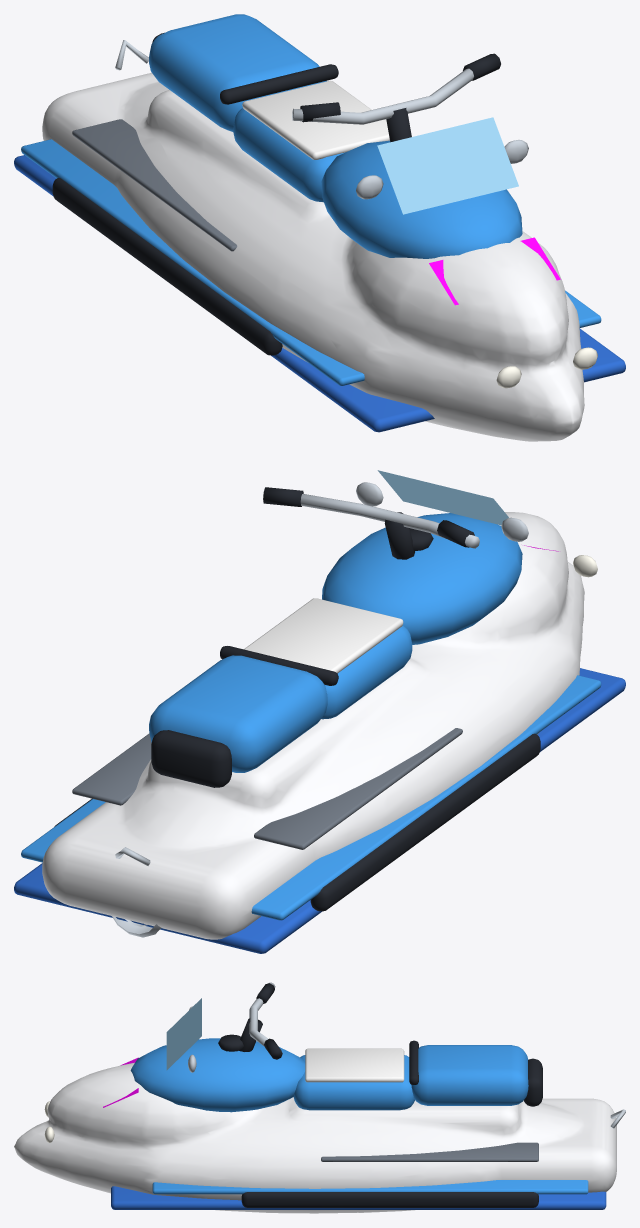
Rendered from jetski.glb.
3 views of the same model, one above another, from view 1: azimuth 30°, elevation 25°; view 2: azimuth 150°, elevation 25°; view 3: azimuth 270°, elevation 25° (orthographic). The views are drawn at different scales.
Visible parts, largest first — view 1: jetski; view 2: jetski; view 3: jetski.
Part boxes in pixels (x1,y1,x2,y2): jetski: (14, 14, 625, 441); jetski: (14, 470, 625, 953); jetski: (14, 982, 625, 1213).
Size of the model in its own units: 1.09 by 0.9868 by 3.09.
